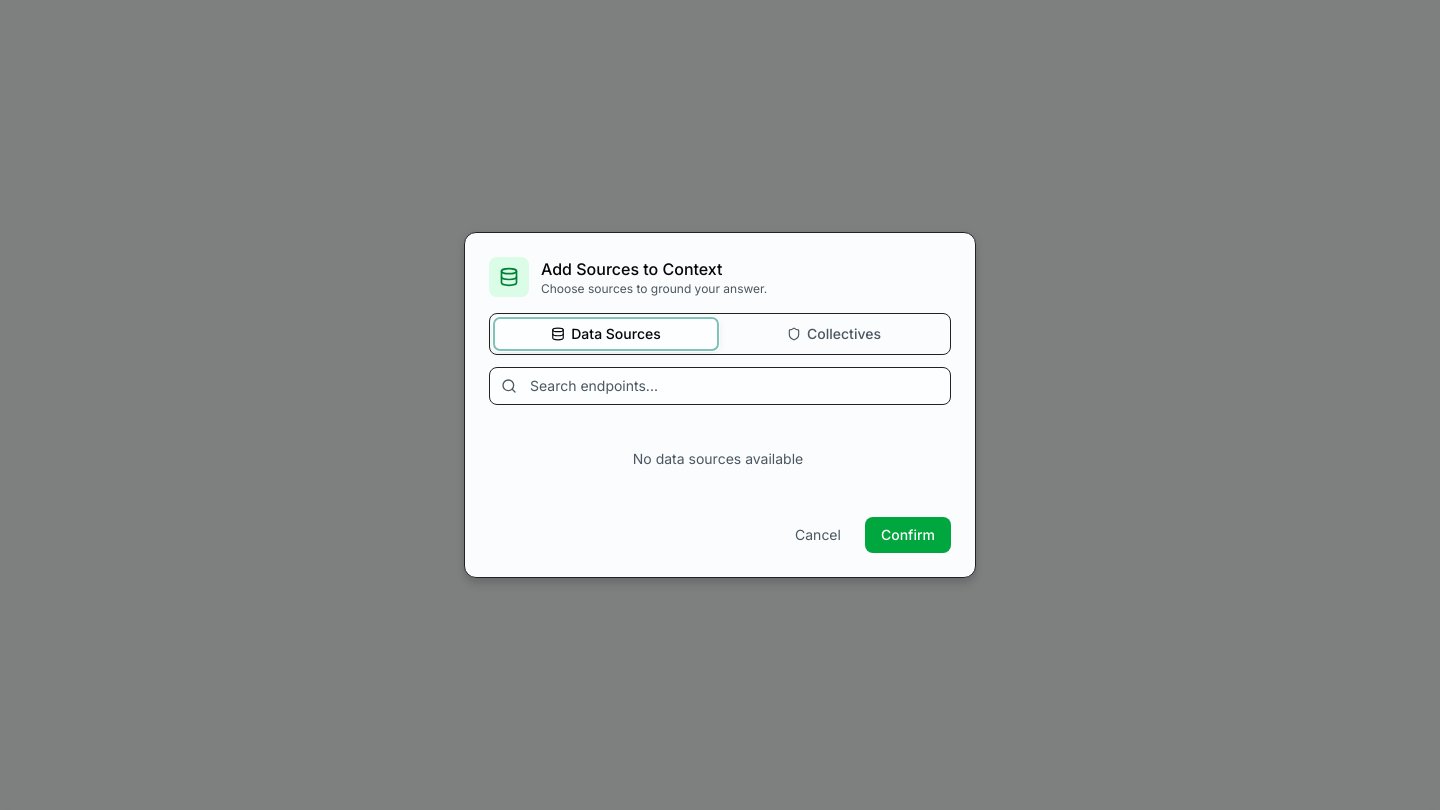
Test: AddSourcesModal › collectives tab content › shows collectives after switching to the Collectives tab
The width and height of the screenshot is (1440, 810).
Click the button "Collectives" at [834, 334], box [722, 318, 946, 350]
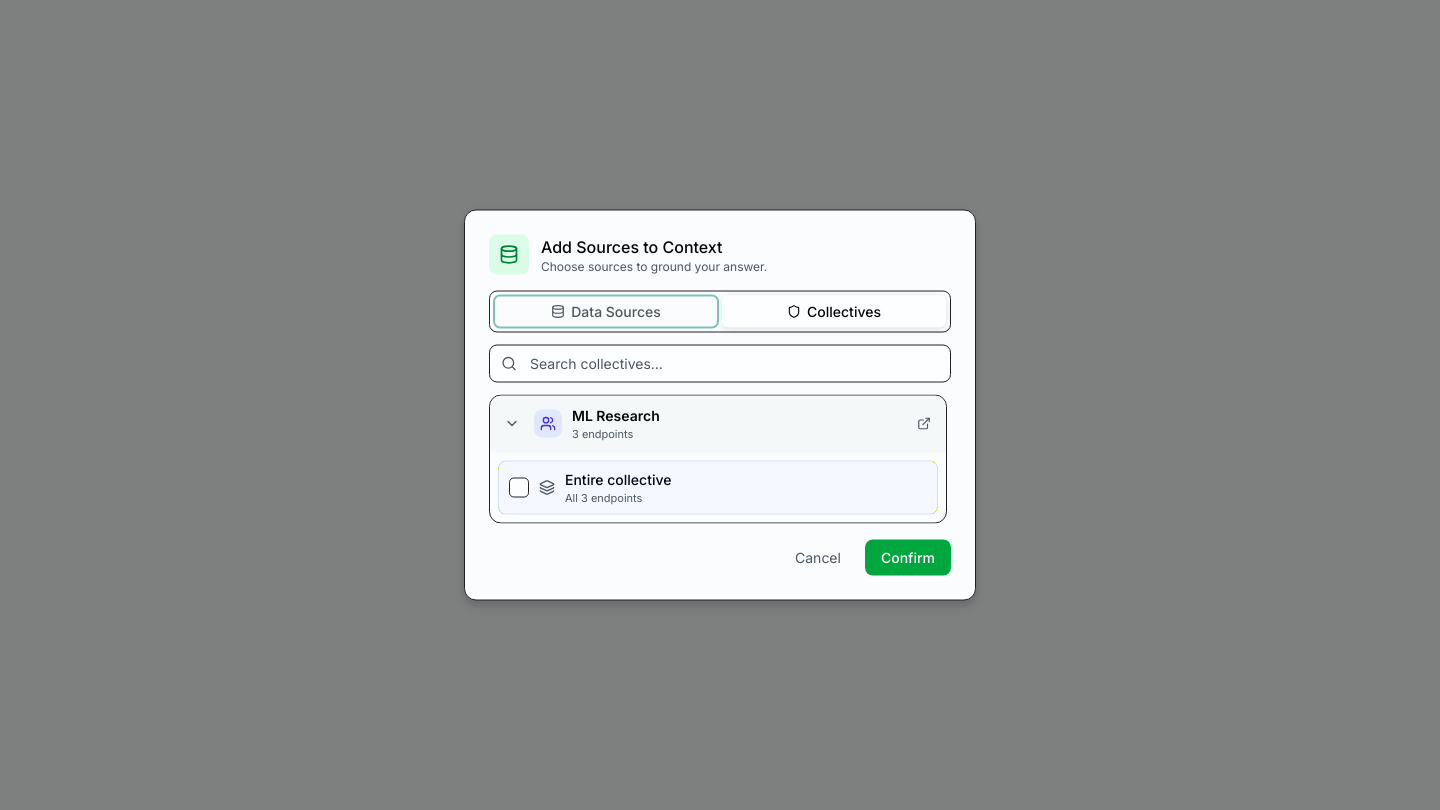
Check: the text "ML Research" is shown, box [572, 406, 660, 424]
